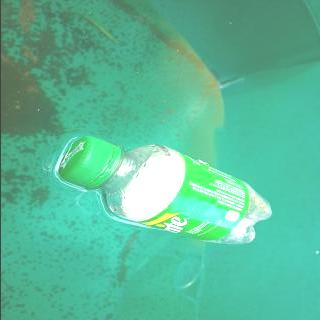bottle: (56, 135, 271, 244)
